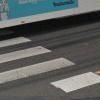Crosswalk: (6, 35, 93, 90)
